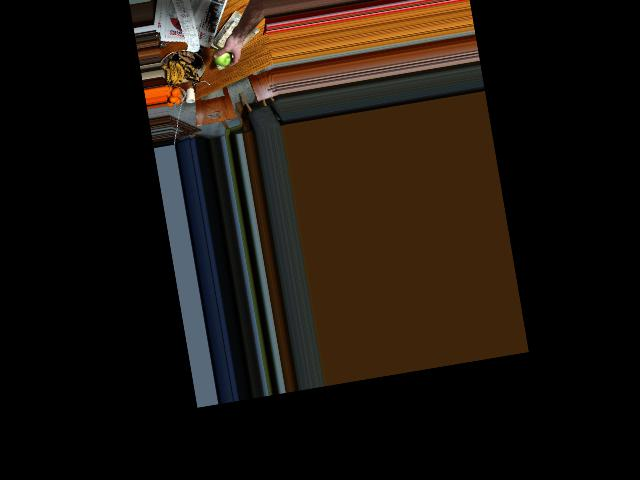apple: (210, 38, 237, 68)
